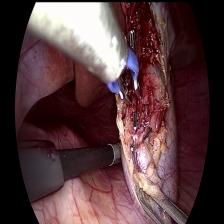Bipolar: (99, 41, 144, 108)
Grasper: (134, 177, 188, 223)
